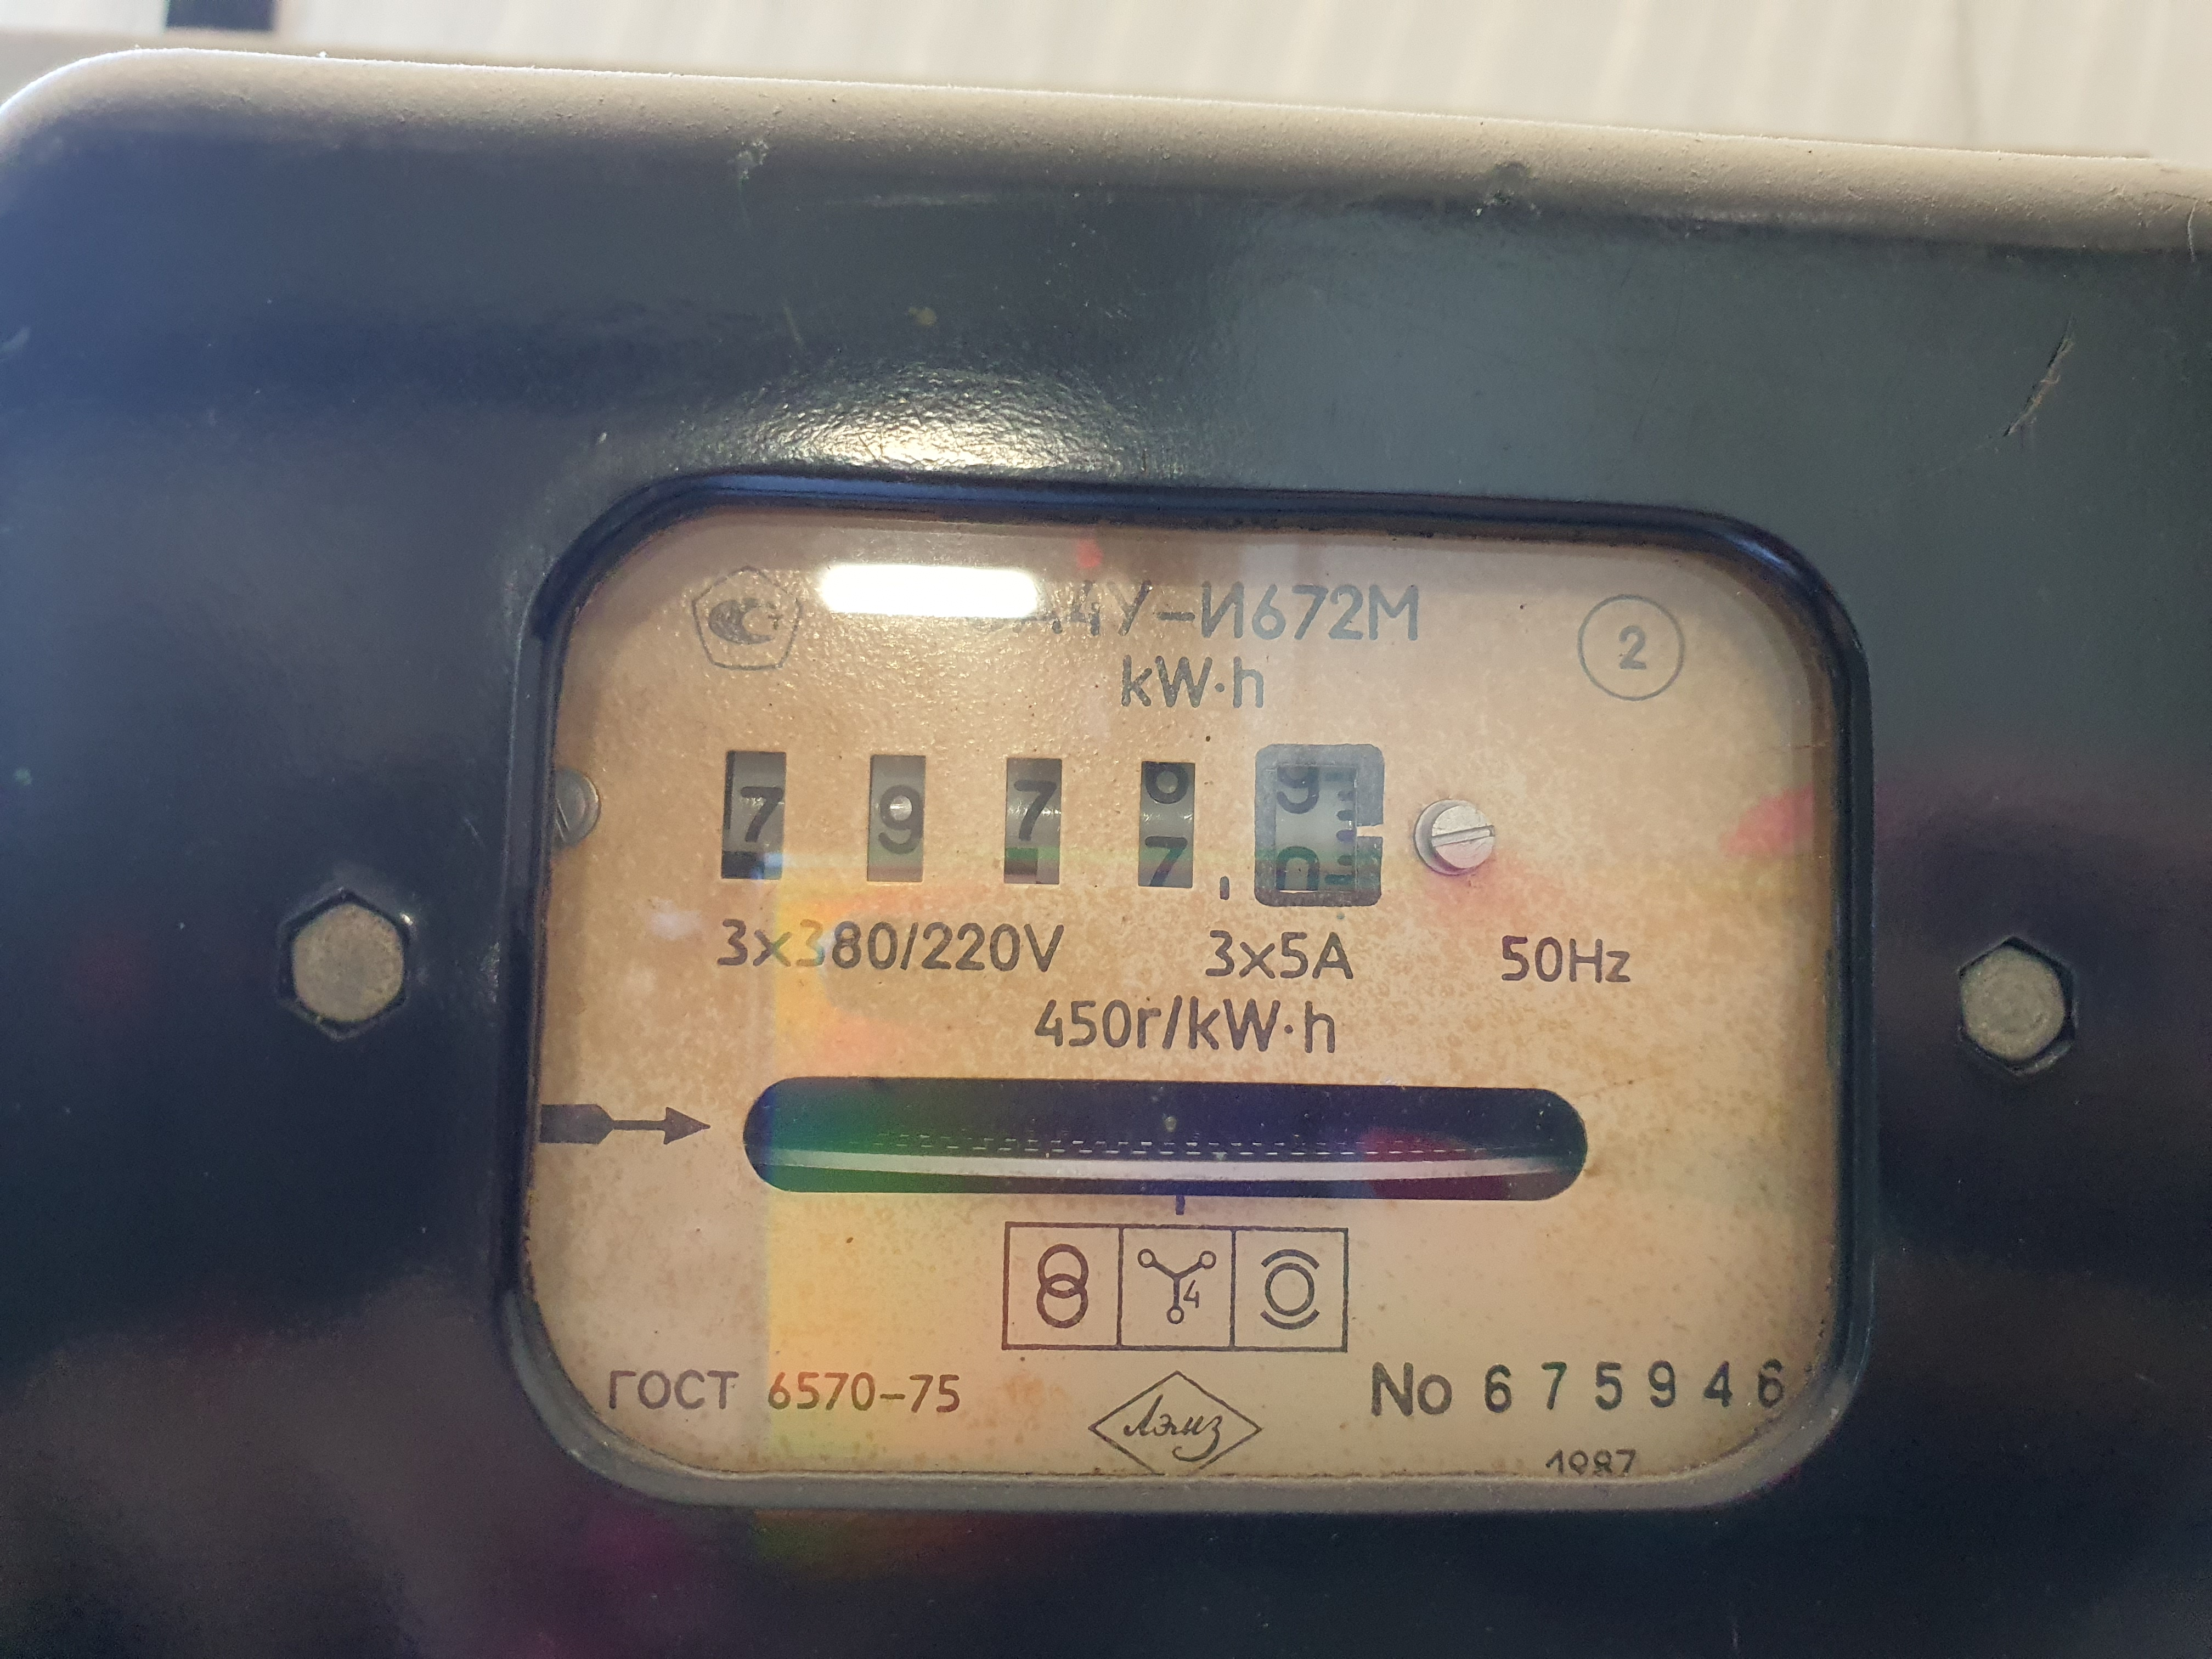0: (1270, 836, 1327, 903)
7: (733, 779, 786, 852), (1008, 774, 1061, 847), (1141, 831, 1191, 892)
9: (871, 781, 930, 857), (1273, 755, 1325, 816)
screen: (688, 711, 1428, 945)
